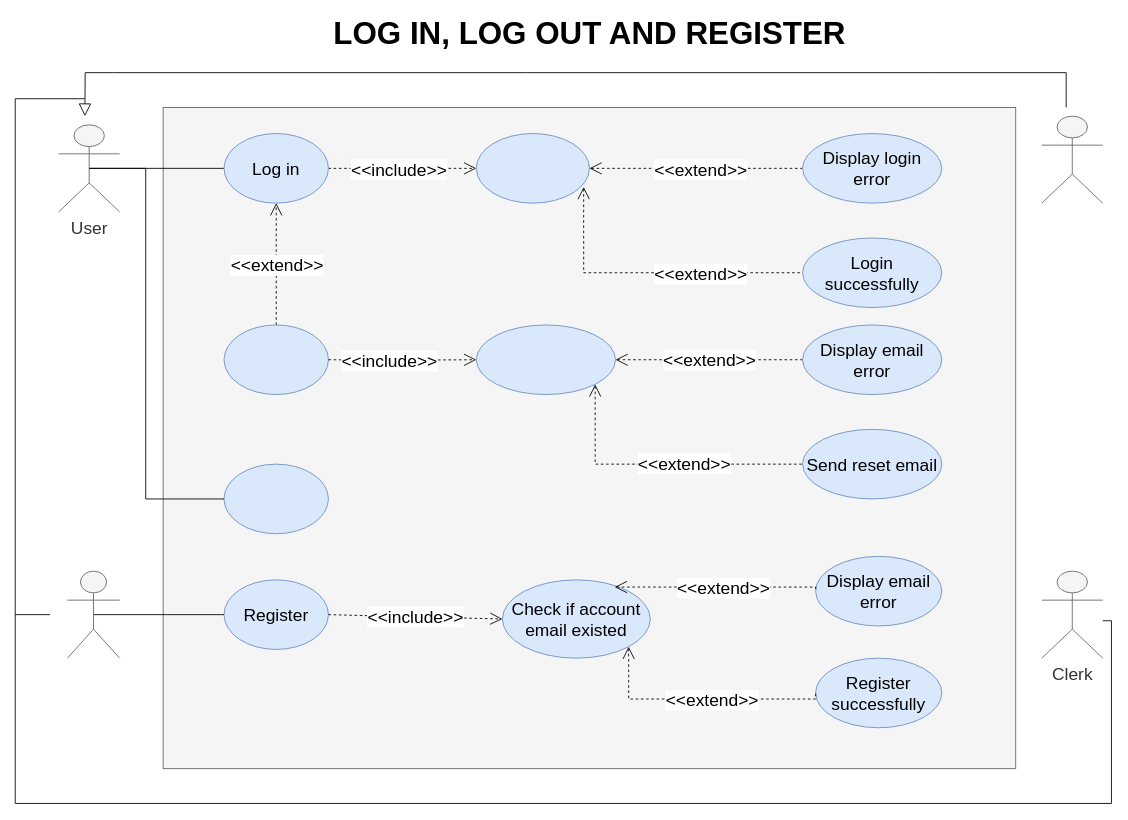
The diagram is 1128 pixels wide and 820 high, and some of its shapes have lost their labels. The shapes that lost their labels are listed below. From the top down, each one's centre as x and y in pixels, then its label:
At point 532,168: "Verify password".
At point 1072,159: "Manager".
At point 275,359: "Reset password".
At point 545,359: "Check if email was registered".
At point 275,498: "Log out".
At point 93,614: "Customer".
